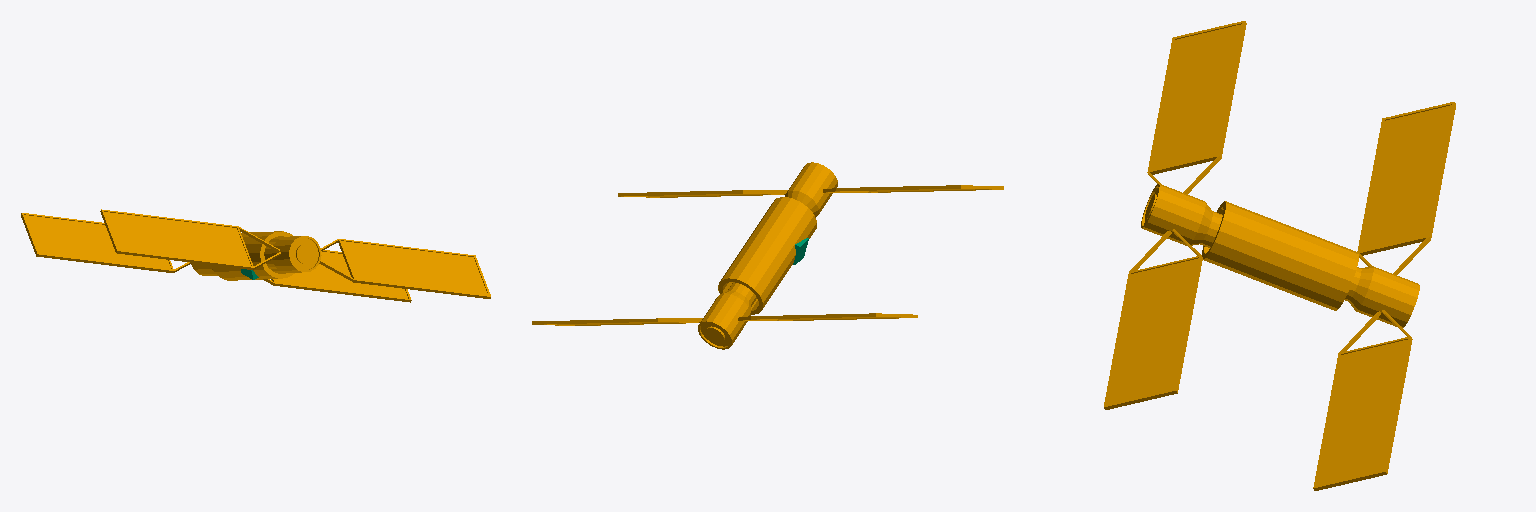
URDF robot description (satellite_13):
<?xml version='1.0' encoding='utf-8'?>
<robot name="satellite_13">
  <link name="base_link">
    <visual>
      <geometry>
        <mesh filename="satellite.stl" />
      </geometry>
    </visual>
    <collision>
      <geometry>
        <mesh filename="satellite.stl" />
      </geometry>
    </collision>
  </link>
  <link name="satellite_13_mount" />
  <joint name="satellite_mount_fixed" type="fixed">
    <parent link="base_link" />
    <child link="satellite_13_mount" />
    <origin xyz="-0.4318182499635565 -0.4150752094962243 0.029176153837355293" rpy="-3.141592653589793 -1.325373661799296 -3.034633267420518" />
  </joint>
  <link name="mount_support">
    <visual>
      <geometry>
        <mesh filename="mount_support.stl" />
      </geometry>
    </visual>
    <collision>
      <geometry>
        <mesh filename="mount_support.stl" />
      </geometry>
    </collision>
  </link>
  <joint name="support_fixed" type="fixed">
    <parent link="satellite_13_mount" />
    <child link="mount_support" />
    <origin xyz="0 0 0" rpy="0 0 0" />
  </joint>
</robot>

--- Facts derived from the render (not from the file) ---
Views: 3 orthographic renders of the robot side by side, from view 1: azimuth 30°, elevation 25°; view 2: azimuth 150°, elevation 25°; view 3: azimuth 270°, elevation 25°.
Model satellite_13 with 3 links and 2 joints (2 fixed), rooted at base_link, posed all joints at 0.
Links seen in each view (by area): view 1: base_link; view 2: base_link; view 3: base_link.
Boxes of the visible links, bbox=[...] form: base_link: bbox=[21, 209, 490, 302]; base_link: bbox=[532, 162, 1003, 349]; base_link: bbox=[1104, 21, 1455, 490].
Bounding box of the posed robot: 8 × 5.16 × 4.13 m (x, y, z).
Meshes: 2 distinct files referenced, 2 mesh visuals loaded (2 binary STL).
